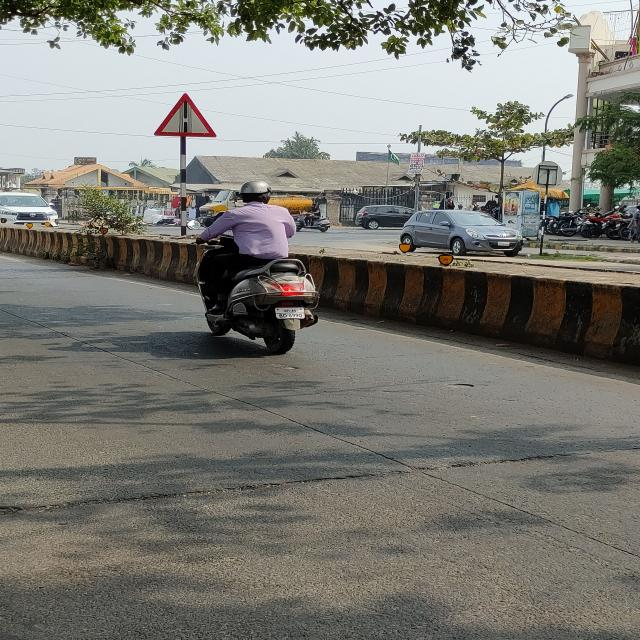GAP_IN_MEDIAN: (153, 93, 218, 137)
